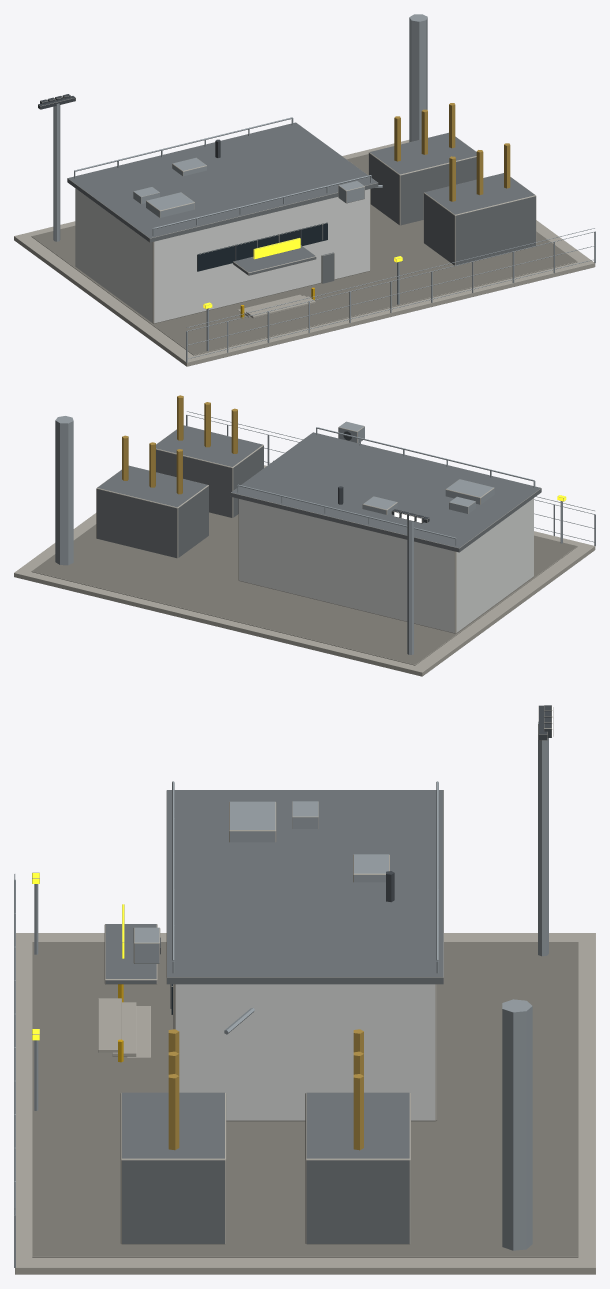
The model's file is ref_control_room.glb.
The picture shows the model from 3 angles, top to bottom: view 1: azimuth 30°, elevation 25°; view 2: azimuth 150°, elevation 25°; view 3: azimuth 270°, elevation 25°; orthographic projection. The views are drawn at different scales.
Visible parts, largest first — view 1: ref_control_room; view 2: ref_control_room; view 3: ref_control_room.
Boxes of the visible parts, x1=… form: ref_control_room: x1=14, y1=14, x2=595, y2=366; ref_control_room: x1=14, y1=395, x2=595, y2=676; ref_control_room: x1=14, y1=705, x2=595, y2=1274.
Size of the model in its own units: 30.07 by 10.3 by 22.03.
